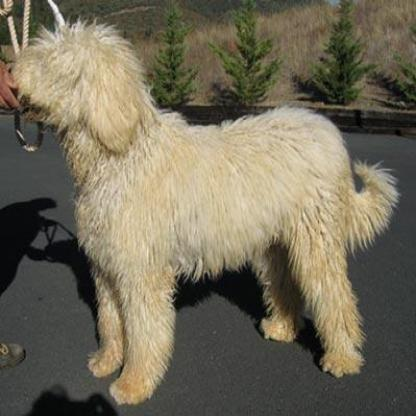komondor: (8, 17, 398, 403)
